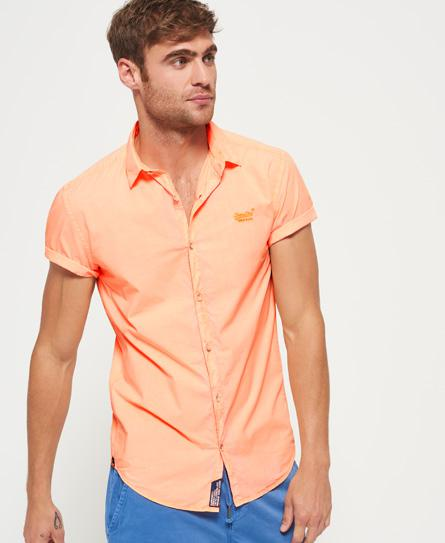teeshirt: (38, 117, 348, 527)
